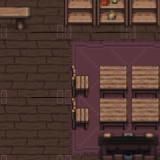Hide: (95, 132, 160, 160)
Obstacle: (0, 0, 36, 33), (97, 63, 130, 98), (97, 98, 131, 131), (65, 63, 97, 98), (96, 0, 129, 32), (65, 98, 97, 131), (64, 0, 96, 32), (130, 64, 160, 98), (129, 0, 160, 32), (130, 98, 160, 131)
